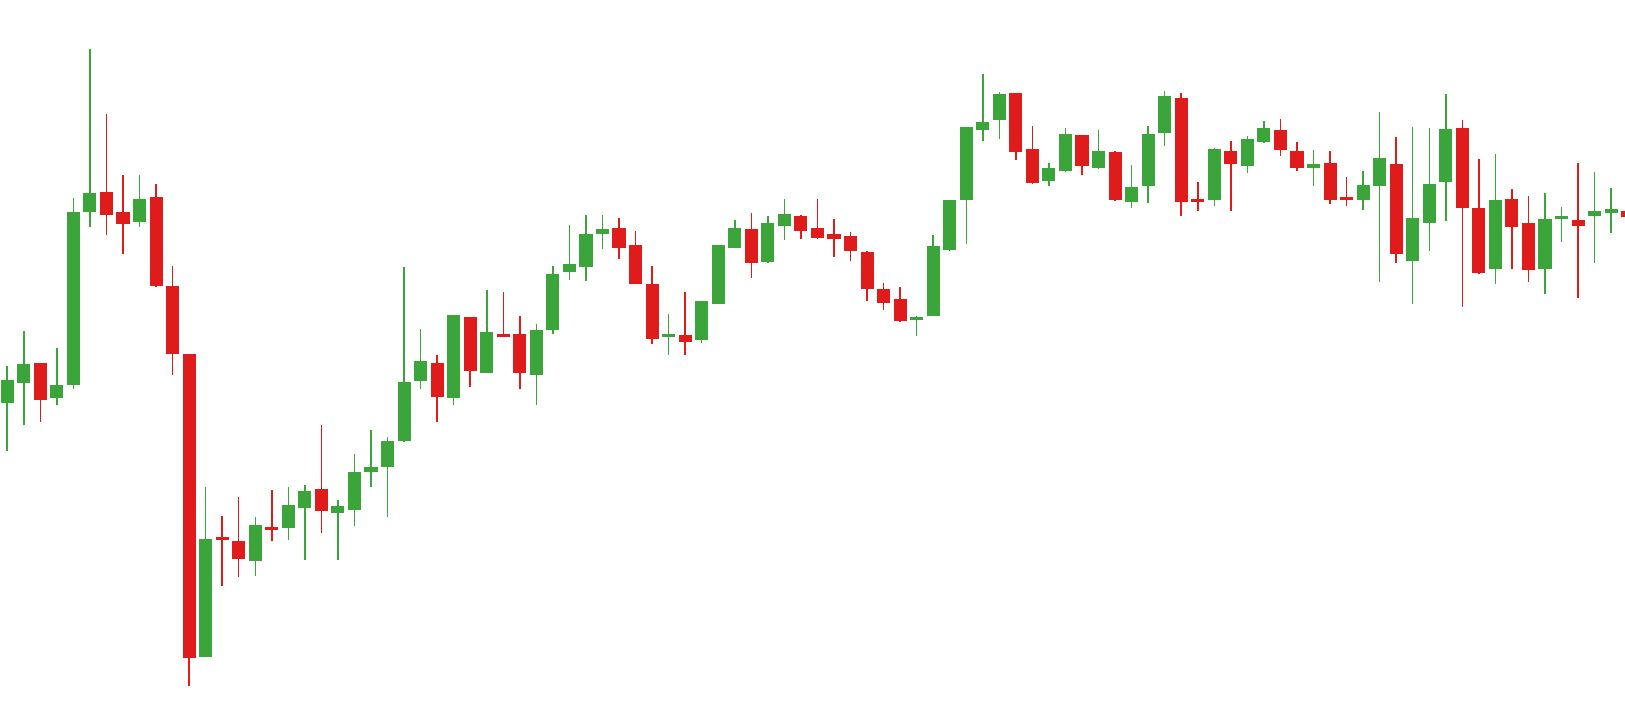buy: (742, 218, 942, 337)
